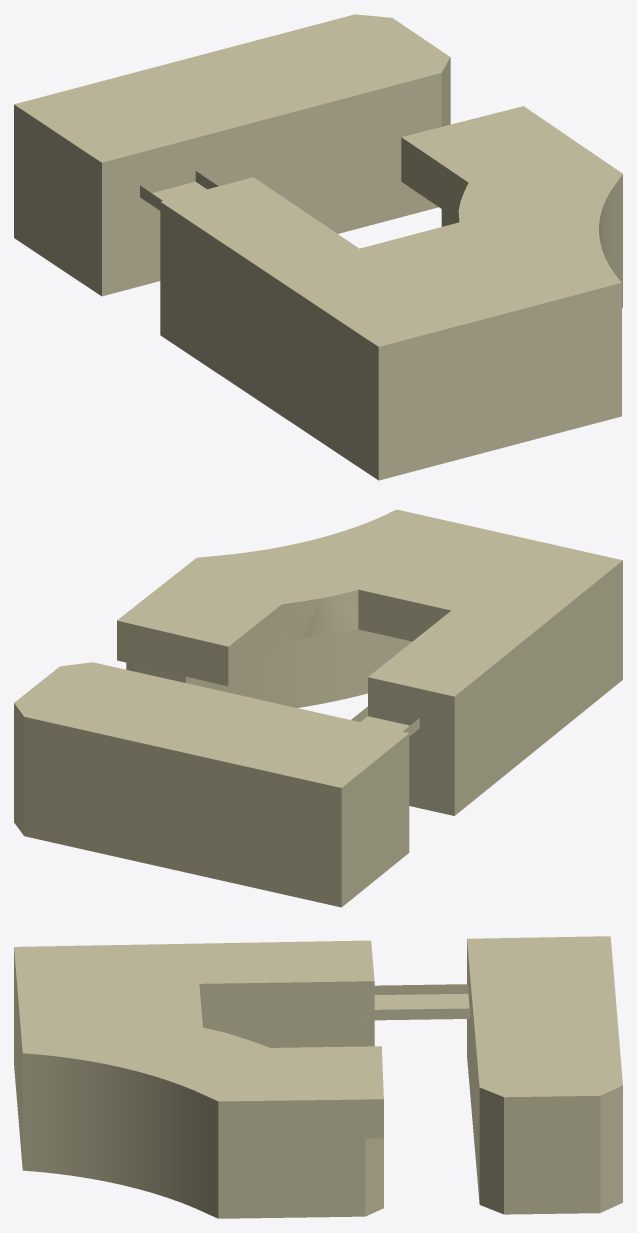
File: SM_WhiteModel_13.FBX
The picture shows the model from 3 angles, top to bottom: view 1: azimuth 30°, elevation 25°; view 2: azimuth 150°, elevation 25°; view 3: azimuth 270°, elevation 25°; orthographic projection. The views are drawn at different scales.
Visible parts, largest first — view 1: SM_WhiteModel_13; view 2: SM_WhiteModel_13; view 3: SM_WhiteModel_13.
Part boxes in pixels (x1,y1,x2,y2): SM_WhiteModel_13: (14,14,622,480); SM_WhiteModel_13: (14,509,622,907); SM_WhiteModel_13: (14,936,622,1218).
Bounding box in the file's own units: 4076 × 6349 × 1350.
